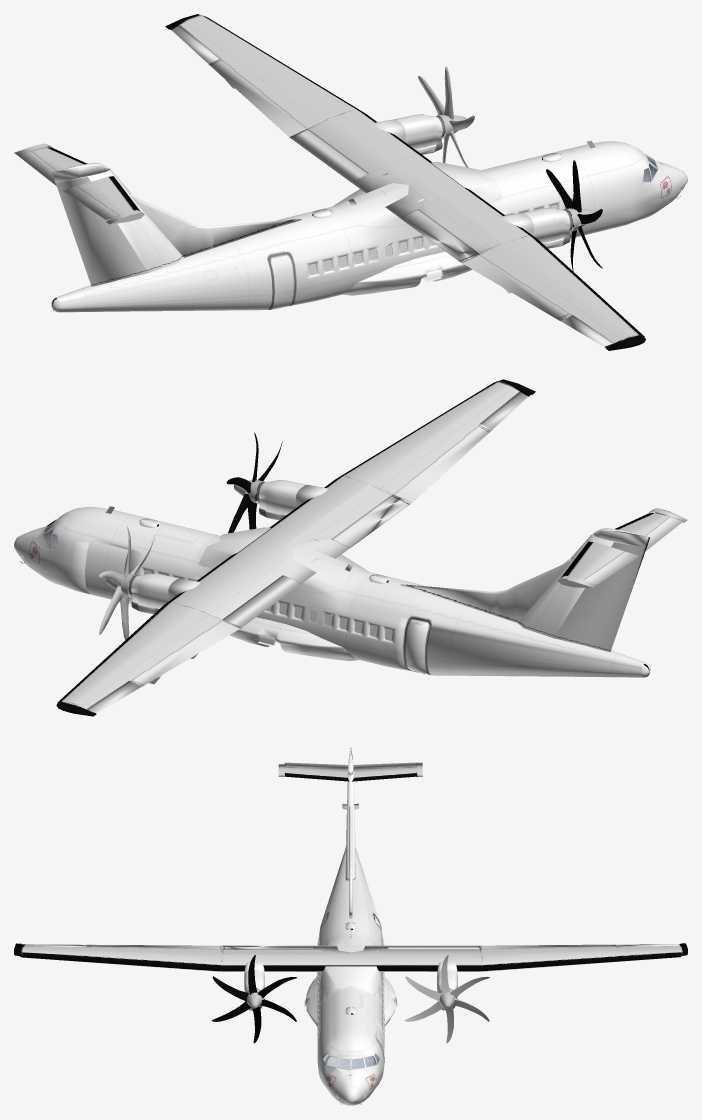
The picture shows the model from 3 angles, top to bottom: view 1: azimuth 30°, elevation 25°; view 2: azimuth 150°, elevation 25°; view 3: azimuth 270°, elevation 25°; orthographic projection. The views are drawn at different scales.
Parts seen in each view (by area): view 1: fuselage_005, Wing_001, W05_206, W05_207, Rudder, fuselage, VStab, Misc_028, Elevator, Flap1, Flap4, Flap2 (+13 smaller); view 2: fuselage_005, Wing_001, W05_207, W05_206, Rudder, fuselage, VStab, Misc_028, Elevator, Flap4, CargoDr, Flap1 (+15 smaller); view 3: fuselage_005, Wing_001, W05_207, W05_206, wavefront, Prop2, Prop1, Elevator, fuselage, VStab, HStab_001, HStab.
Boxes of the visible parts, box(x1,y1,x2,y2) form: fuselage_005: box(51, 141, 687, 312); Wing_001: box(290, 110, 537, 262); W05_206: box(170, 16, 364, 137); W05_207: box(462, 236, 644, 343); Rudder: box(55, 177, 148, 286); fuselage: box(343, 251, 472, 295); VStab: box(62, 169, 183, 272); Misc_028: box(131, 193, 213, 257); Elevator: box(18, 150, 124, 219); Flap1: box(209, 59, 307, 136); Flap4: box(462, 255, 571, 320); Flap2: box(290, 129, 369, 181); fuselage_005: box(14, 506, 650, 677); Wing_001: box(164, 476, 411, 628); W05_207: box(336, 381, 530, 502); W05_206: box(58, 601, 239, 708); Rudder: box(554, 542, 646, 652); fuselage: box(229, 617, 358, 661); VStab: box(518, 534, 638, 638); Misc_028: box(488, 558, 570, 622); Elevator: box(578, 515, 683, 584); Flap4: box(394, 424, 491, 502); CargoDr: box(85, 540, 128, 601); Flap1: box(130, 620, 239, 685); fuselage_005: box(317, 847, 384, 1105); Wing_001: box(221, 945, 480, 971); W05_207: box(21, 944, 221, 971); W05_206: box(480, 944, 680, 971); wavefront: box(319, 966, 382, 1005); Prop2: box(212, 955, 296, 1043); Prop1: box(405, 955, 489, 1043); Elevator: box(284, 762, 416, 772); fuselage: box(306, 976, 395, 1026); VStab: box(345, 765, 355, 881); HStab_001: box(284, 769, 349, 781); HStab: box(352, 769, 416, 781).
Bounding box in the file's own units: 22.77 × 6.59 × 27.69.
Materials: 7 (4 with a texture image).
